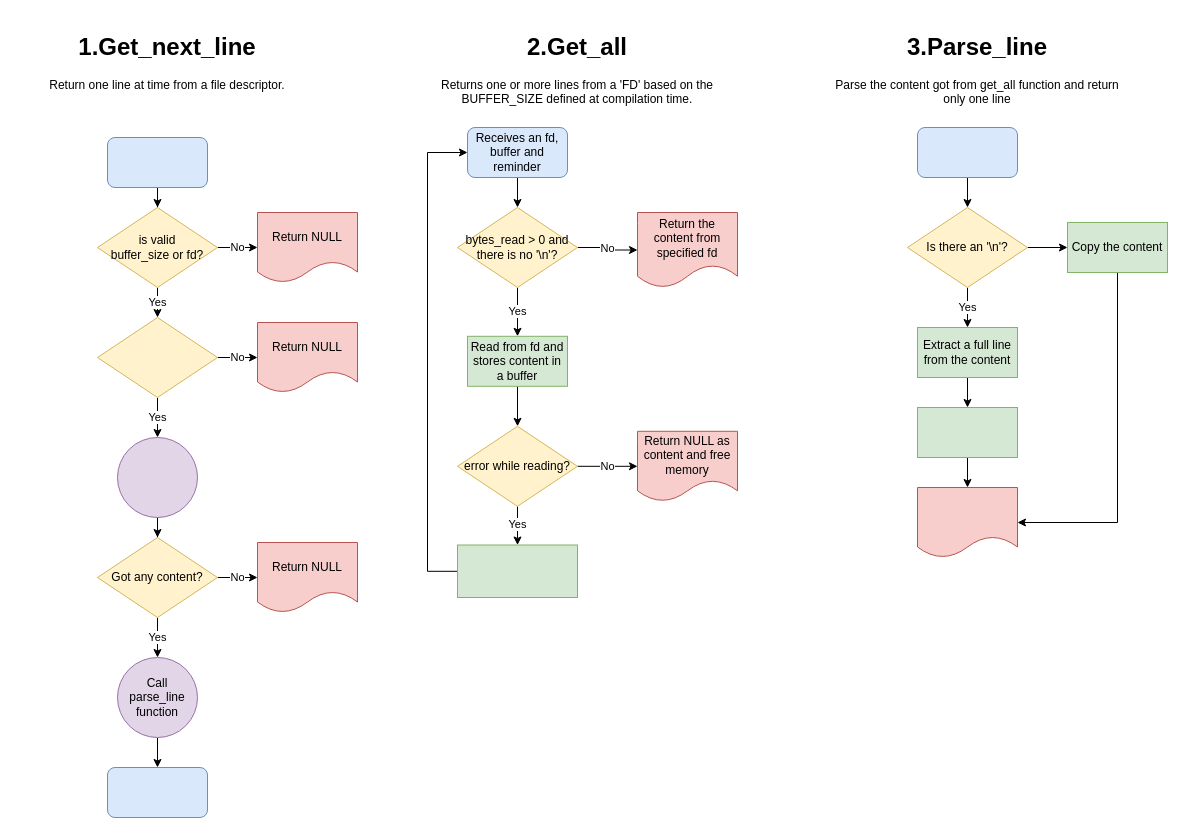
This 1185x835 diagram has some shape labels left out. Each missing label, with the box of its shape:
Call get_all function: (116, 436, 198, 518)
Concatenates results and evaluates 1st condition: (456, 544, 578, 598)
is there anything from last read?: (96, 316, 218, 398)
Receives FD: (106, 136, 208, 188)
Receives the reading content: (916, 126, 1018, 178)
Return parsed line: (106, 766, 208, 818)
Return the line or content: (916, 486, 1018, 558)
Saves the rest of the content in a static buffer: (916, 406, 1018, 458)
